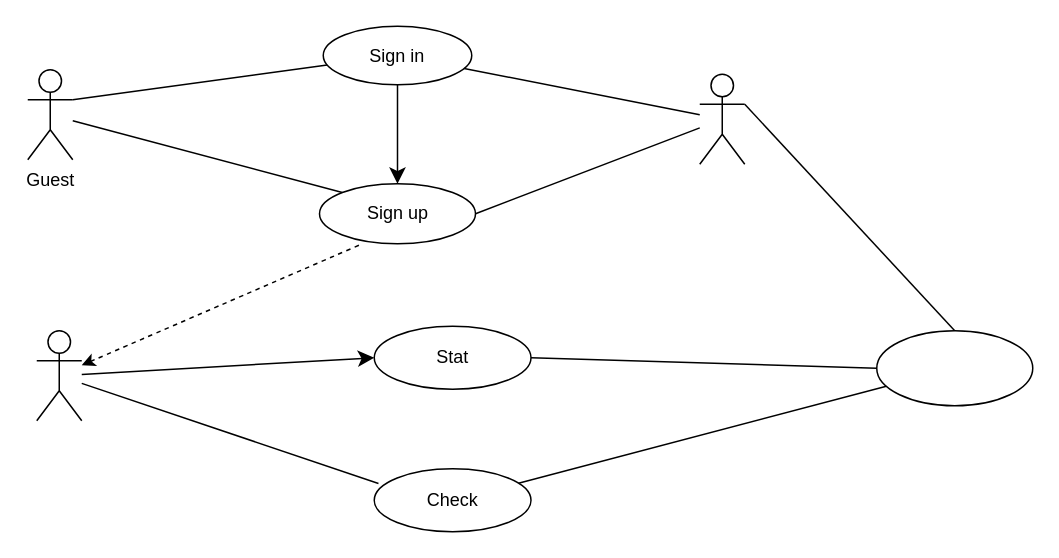
The diagram is 1059 pixels wide and 558 high, and some of its shapes have lost their labels. Here are the shapes that lost their labels. From the top down, the centre of each, then its label:
At (721,118): "Server".
At (58,375): "User".
At (954,367): "Update DB".
